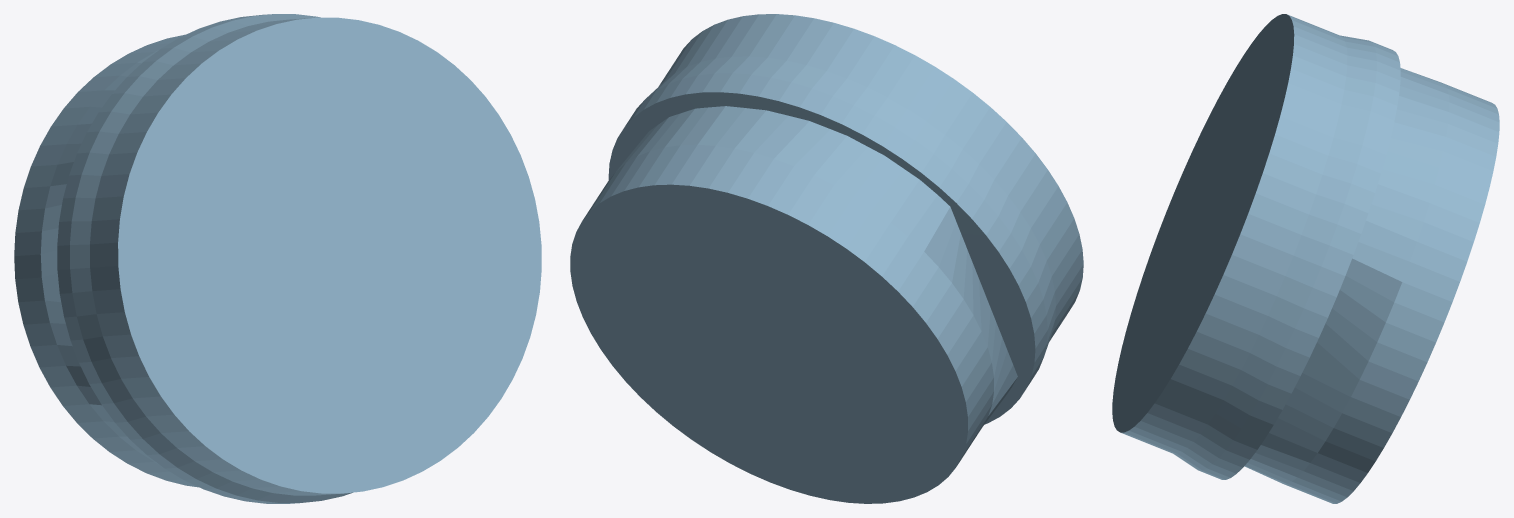
Rendered from left_wrist_z_link_visual_2.obj.
3 views of the same model, side by side, from view 1: azimuth 30°, elevation 25°; view 2: azimuth 150°, elevation 25°; view 3: azimuth 270°, elevation 25° (orthographic). The views are drawn at different scales.
Visible parts, largest first — view 1: L_IndexV2.011_visual.001; view 2: L_IndexV2.011_visual.001; view 3: L_IndexV2.011_visual.001.
Part boxes in pixels (x1,y1,x2,y2): L_IndexV2.011_visual.001: [14, 14, 541, 503]; L_IndexV2.011_visual.001: [570, 14, 1083, 503]; L_IndexV2.011_visual.001: [1112, 14, 1499, 503].
Size of the model in its own units: 0.125 by 0.1331 by 0.1047.
